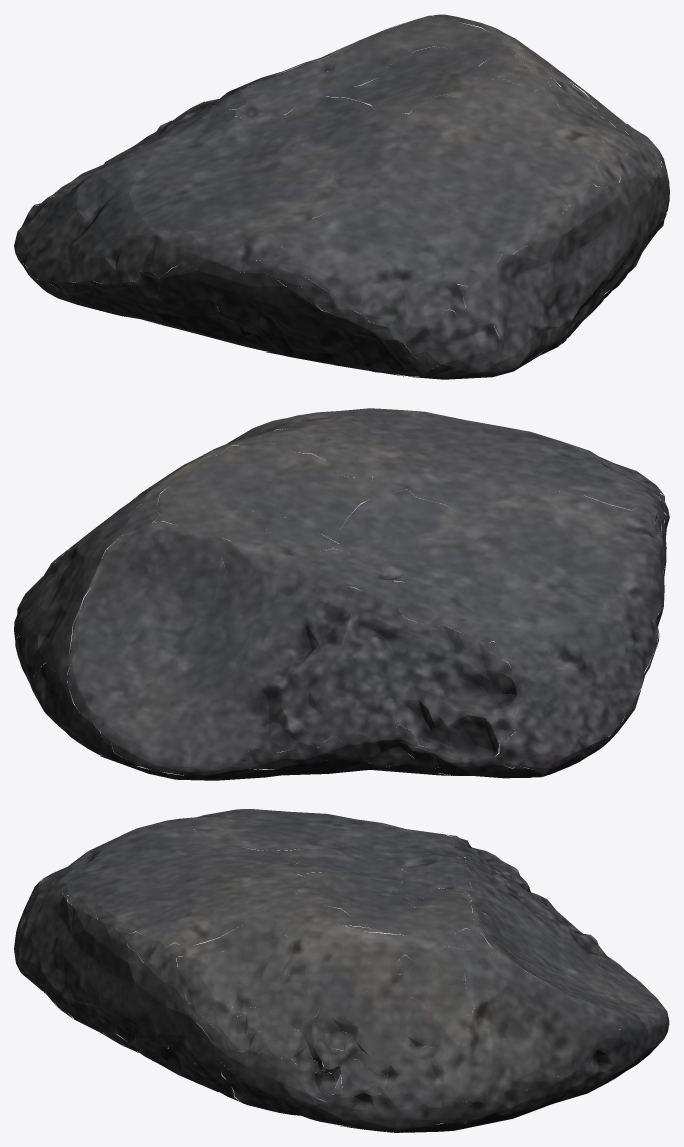
File: x-rocher.glb
3 views of the same model, one above another, from view 1: azimuth 30°, elevation 25°; view 2: azimuth 150°, elevation 25°; view 3: azimuth 270°, elevation 25° (orthographic). The views are drawn at different scales.
Visible parts, largest first — view 1: geometry_0; view 2: geometry_0; view 3: geometry_0.
Boxes of the visible parts, x1=… form: geometry_0: x1=14, y1=14, x2=669, y2=379; geometry_0: x1=14, y1=408, x2=669, y2=780; geometry_0: x1=14, y1=809, x2=669, y2=1132.
Size of the model in its own units: 0.9161 by 0.2686 by 0.9989.
Materials: 1 (1 with a texture image).
